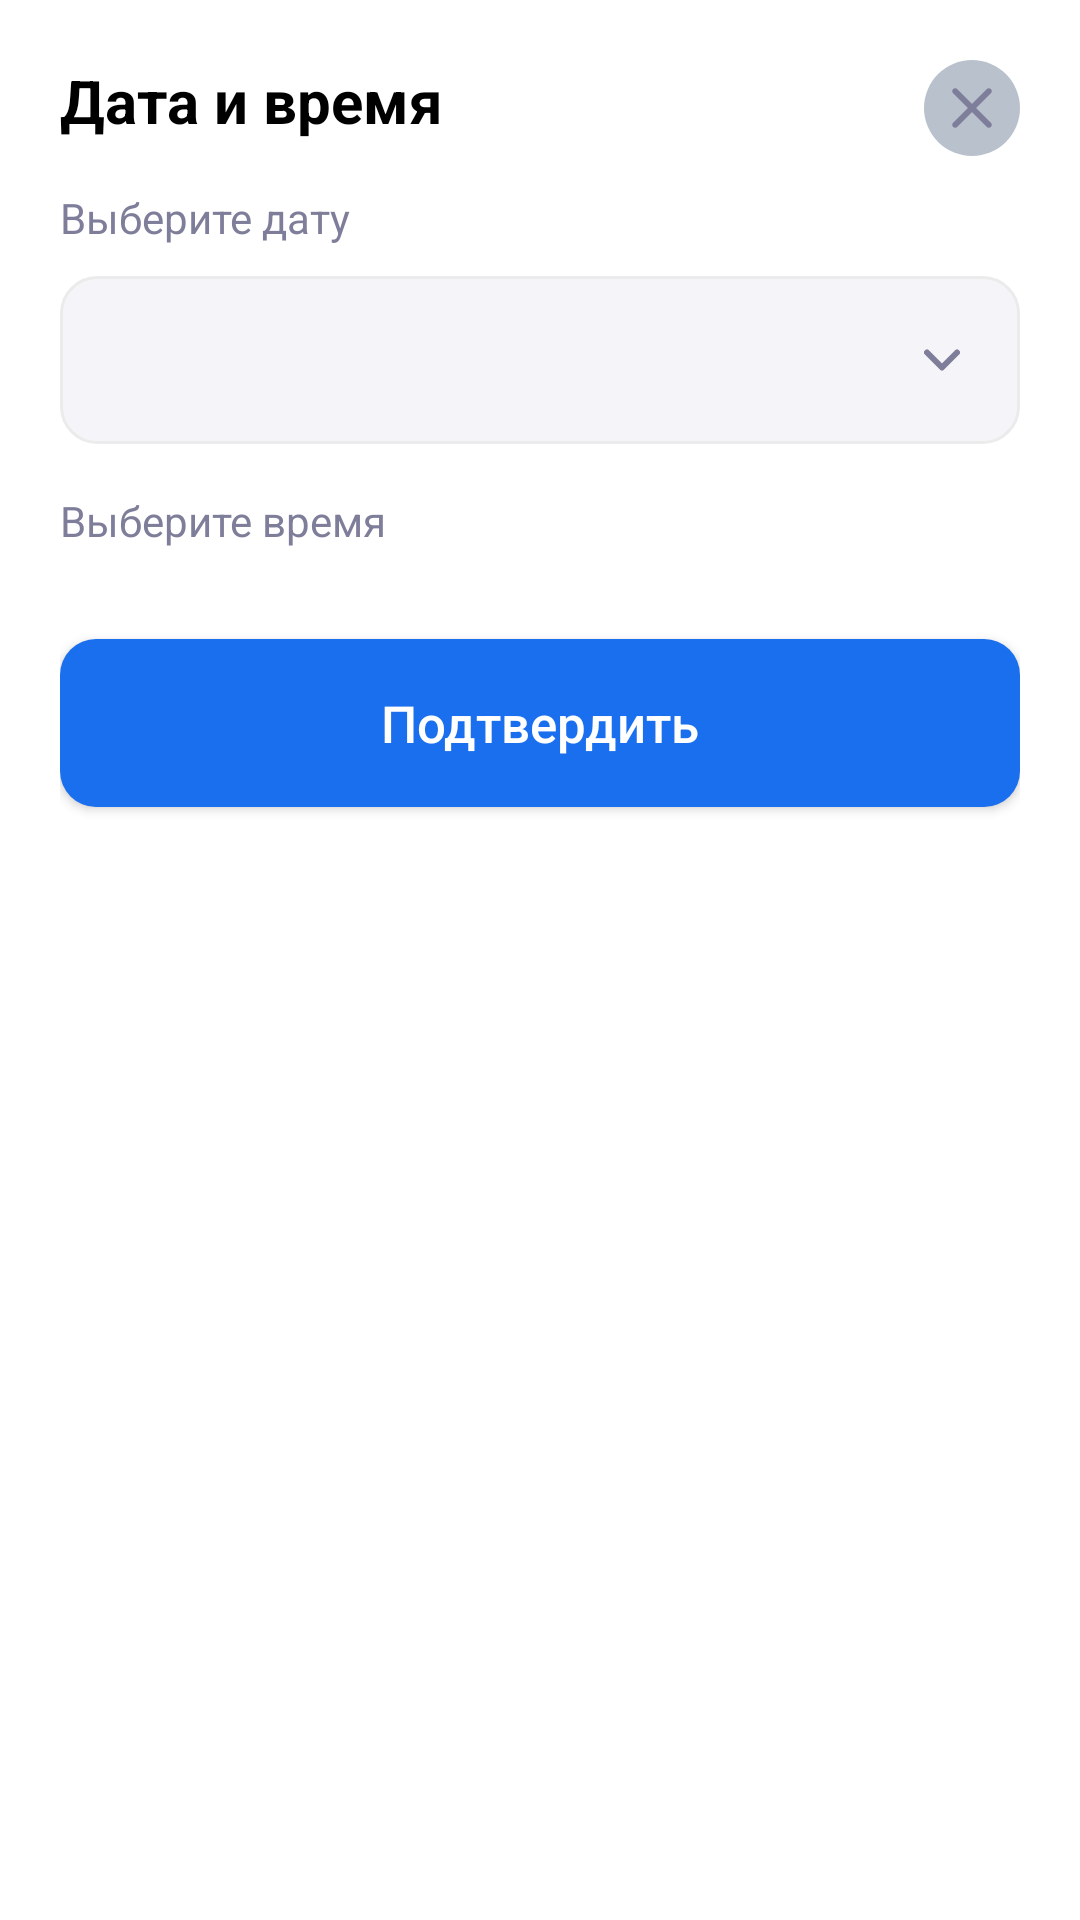

Named icons in this screenshot (1080w x 1920h) and their bounding boxes, [left=x1, top=y1, right=x2, bottom=y2]:
close: [left=924, top=60, right=1020, bottom=156]
drop down: [left=924, top=349, right=960, bottom=371]
